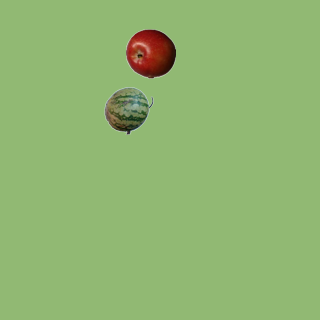Apple Braeburn: (125, 28, 175, 78)
Watermelon: (103, 85, 153, 135)
